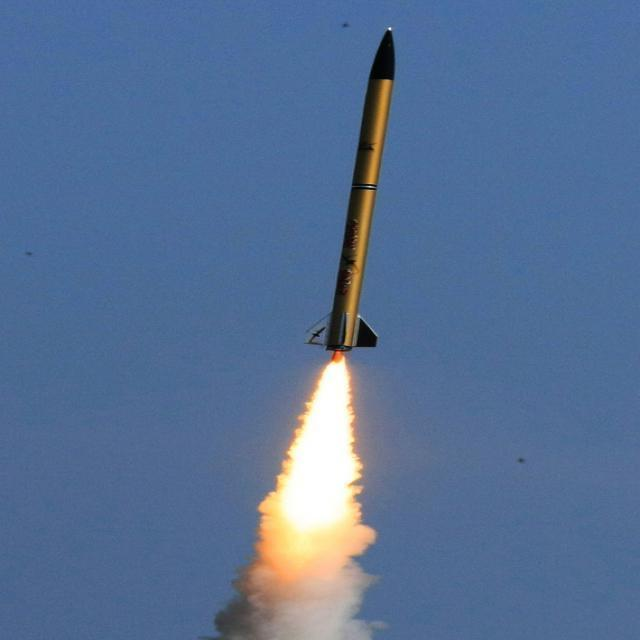missile: (314, 20, 402, 367)
